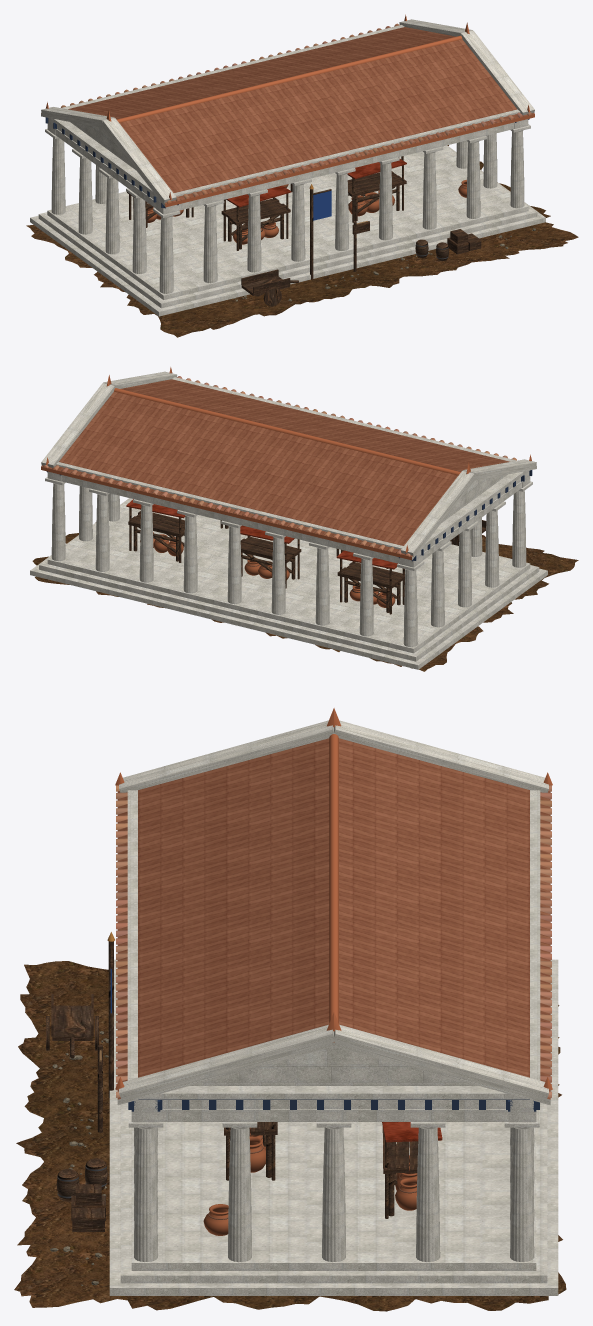
Rendered from market@2.glb.
3 renders of one model, top to bottom at view 1: azimuth 30°, elevation 25°; view 2: azimuth 150°, elevation 25°; view 3: azimuth 270°, elevation 25°, orthographic. The views are drawn at different scales.
Parts seen in each view (by area): view 1: part_13, part_15, part_1, part_4, part_17, part_18, part_6, part_5, part_11; view 2: part_13, part_15, part_4, part_17, part_1, part_18, part_5, part_6; view 3: part_13, part_15, part_1, part_4, part_18, part_17, part_6, part_14.
Part boxes in pixels (x1=…): part_13: x1=30, y1=19, x2=545, y2=316; part_15: x1=41, y1=27, x2=534, y2=203; part_1: x1=26, y1=145, x2=578, y2=337; part_4: x1=127, y1=156, x2=481, y2=306; part_17: x1=46, y1=14, x2=534, y2=207; part_18: x1=61, y1=23, x2=532, y2=203; part_6: x1=147, y1=179, x2=466, y2=244; part_5: x1=226, y1=159, x2=406, y2=207; part_11: x1=313, y1=190, x2=331, y2=220; part_13: x1=30, y1=371, x2=547, y2=669; part_15: x1=41, y1=379, x2=509, y2=556; part_4: x1=128, y1=507, x2=486, y2=614; part_17: x1=41, y1=367, x2=531, y2=560; part_1: x1=32, y1=522, x2=578, y2=671; part_18: x1=43, y1=376, x2=516, y2=556; part_5: x1=126, y1=499, x2=397, y2=569; part_6: x1=140, y1=532, x2=395, y2=607; part_13: x1=109, y1=720, x2=558, y2=1295; part_15: x1=117, y1=738, x2=550, y2=1099; part_1: x1=14, y1=961, x2=566, y2=1311; part_4: x1=46, y1=941, x2=418, y2=1231; part_18: x1=116, y1=785, x2=551, y2=1097; part_17: x1=115, y1=708, x2=552, y2=1089; part_6: x1=203, y1=1127, x2=417, y2=1235; part_14: x1=128, y1=1099, x2=539, y2=1111.
Bounding box in the file's own units: 10.56 × 3.85 × 7.16.
Materials: 19 (9 with a texture image).
